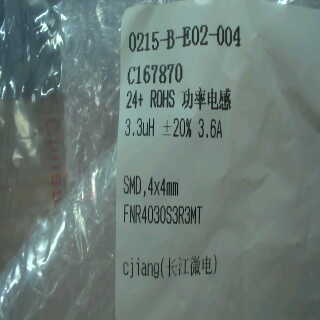3.3uH: (120, 113, 162, 146)
